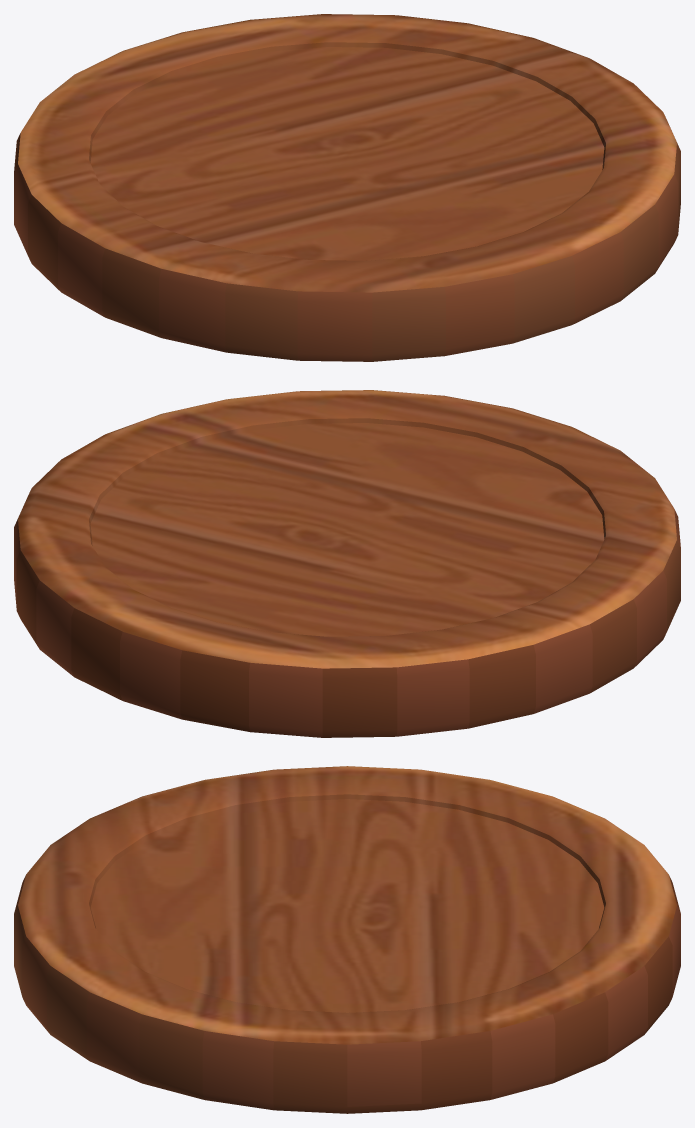
File: coin2.fbx
3 views of the same model, one above another, from view 1: azimuth 30°, elevation 25°; view 2: azimuth 150°, elevation 25°; view 3: azimuth 270°, elevation 25° (orthographic).
Visible parts, largest first — view 1: Cylinder.047; view 2: Cylinder.047; view 3: Cylinder.047.
Part boxes in pixels (x1=…): Cylinder.047: x1=14, y1=14, x2=680, y2=361; Cylinder.047: x1=14, y1=390, x2=680, y2=737; Cylinder.047: x1=14, y1=766, x2=680, y2=1113.
Bounding box in the file's own units: 193 × 24.31 × 193.
1 material, 1 textured.
